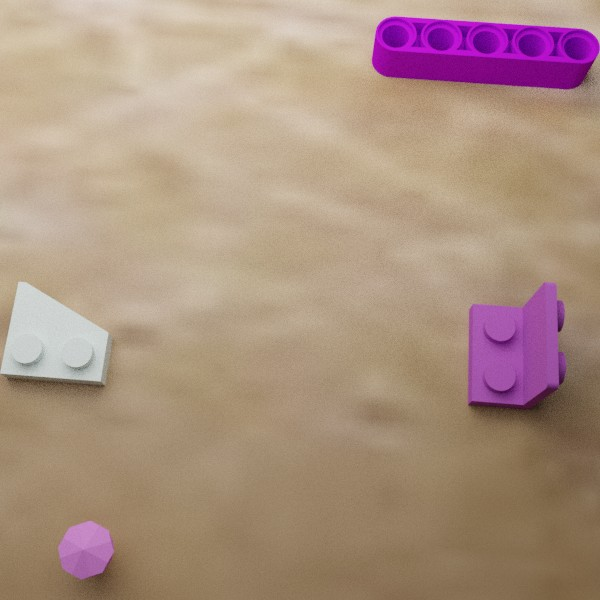lego: (371, 16, 600, 89), (467, 282, 566, 409), (0, 281, 112, 385), (58, 520, 113, 579)
